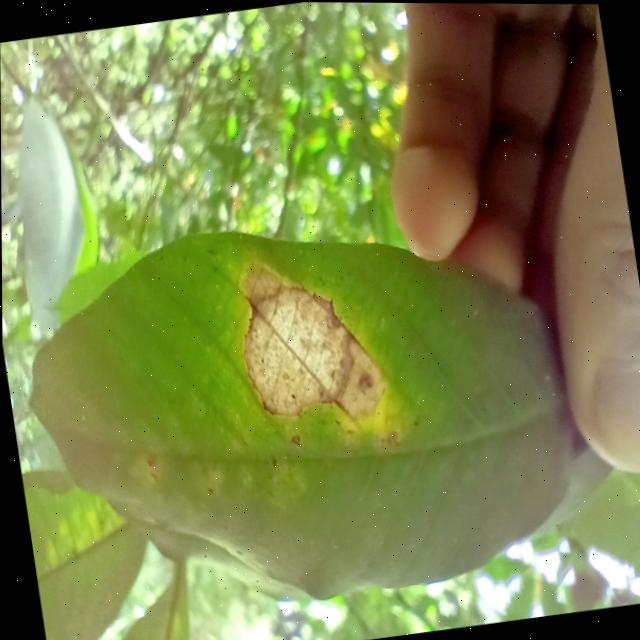Leaf-Blight: (231, 249, 391, 439)
